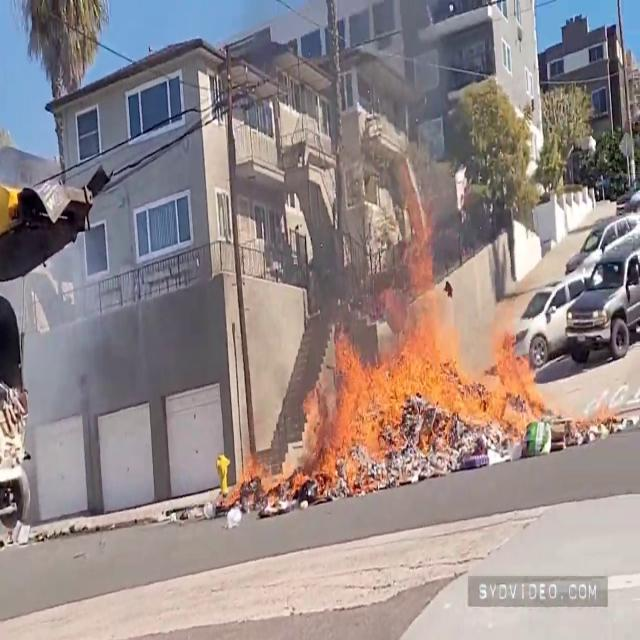Fire: (286, 211, 546, 484)
